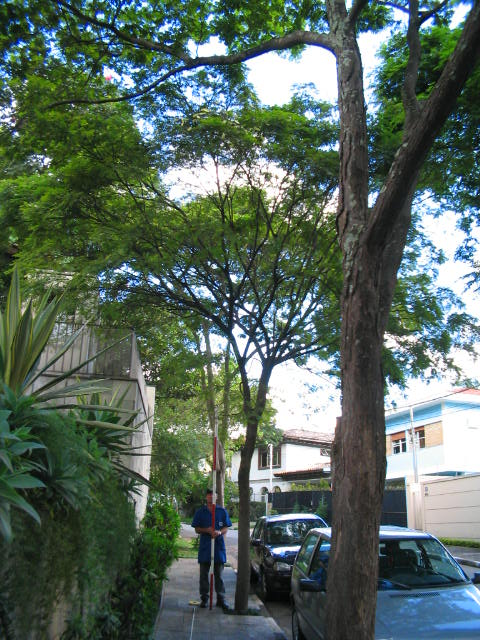crown: (9, 92, 480, 398)
stem: (313, 255, 398, 638), (225, 420, 266, 611)
stick: (203, 435, 222, 611)
tree: (9, 91, 480, 613)
